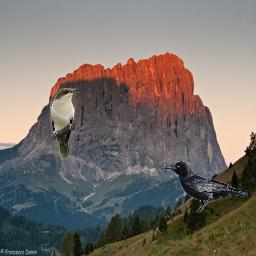Crow: (164, 161, 249, 213)
Cuckoo: (50, 88, 80, 160)
